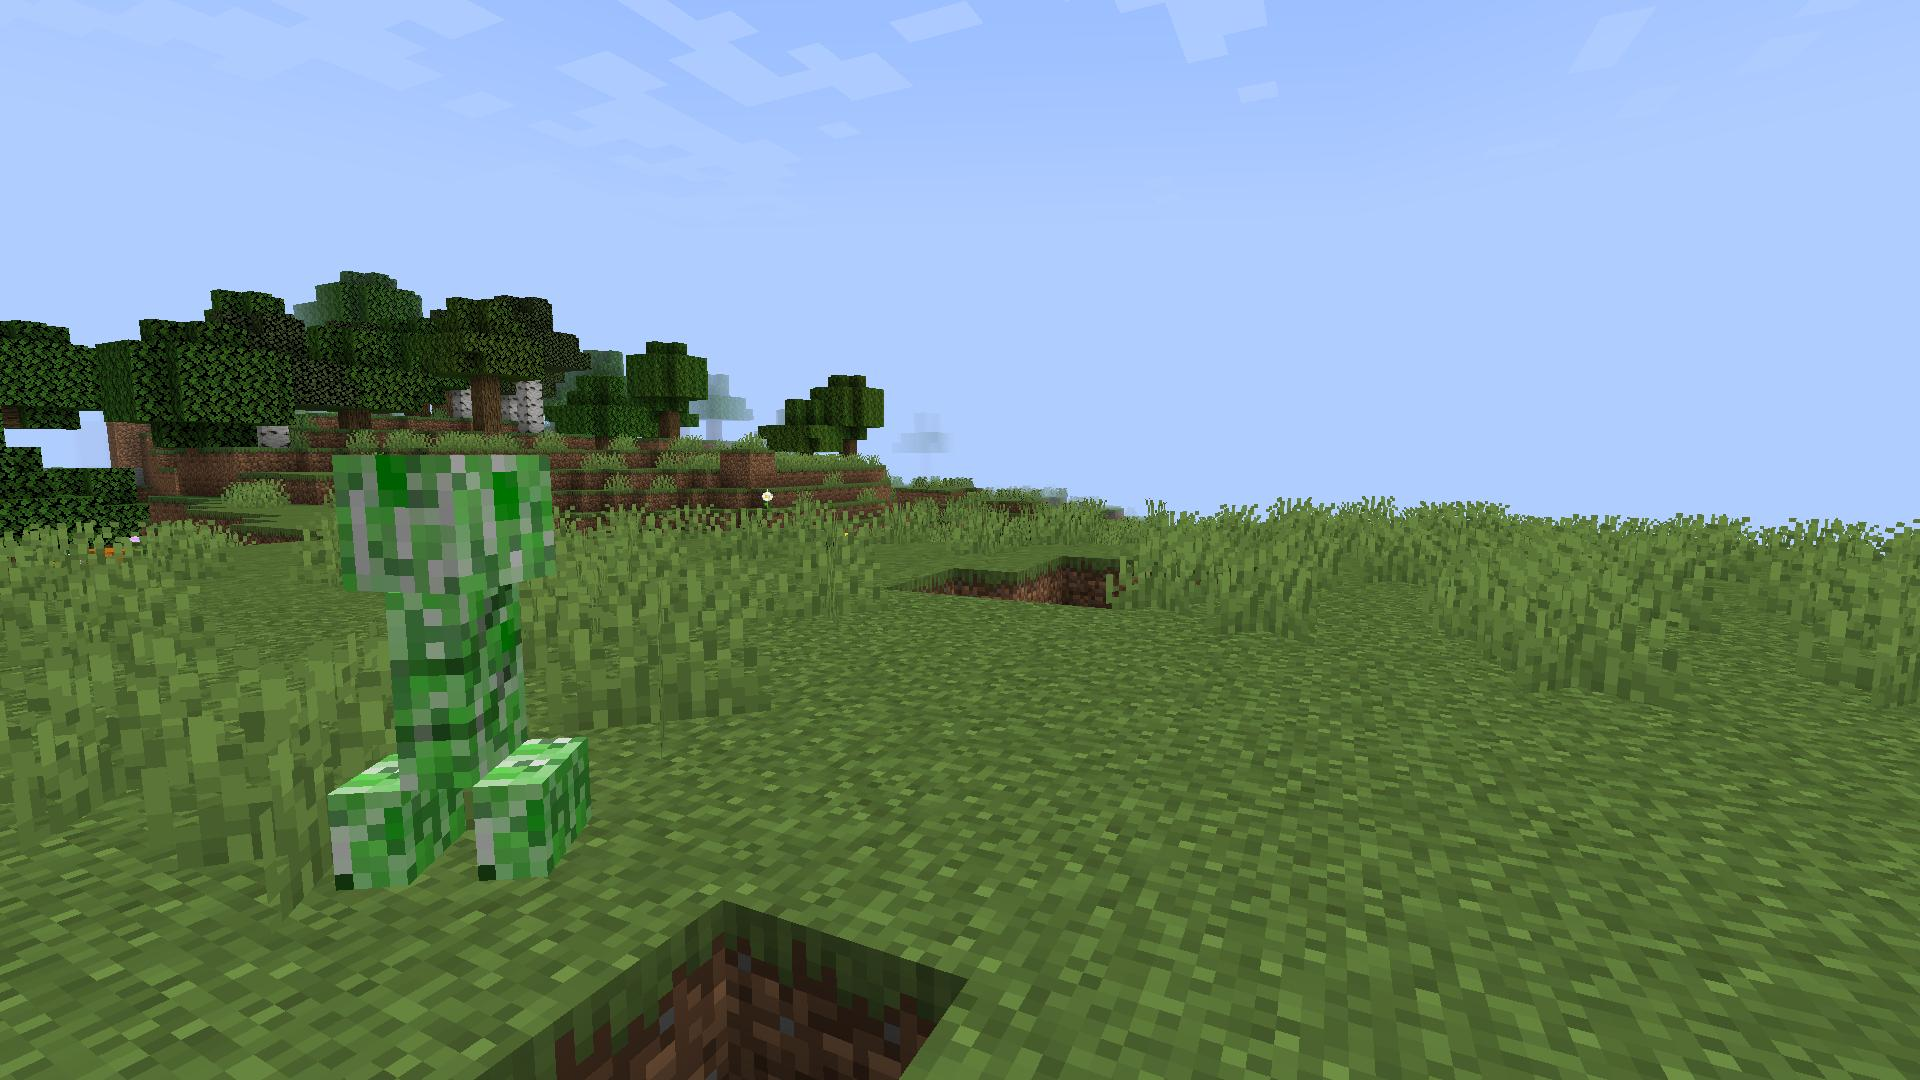creeper: (322, 440, 600, 903)
